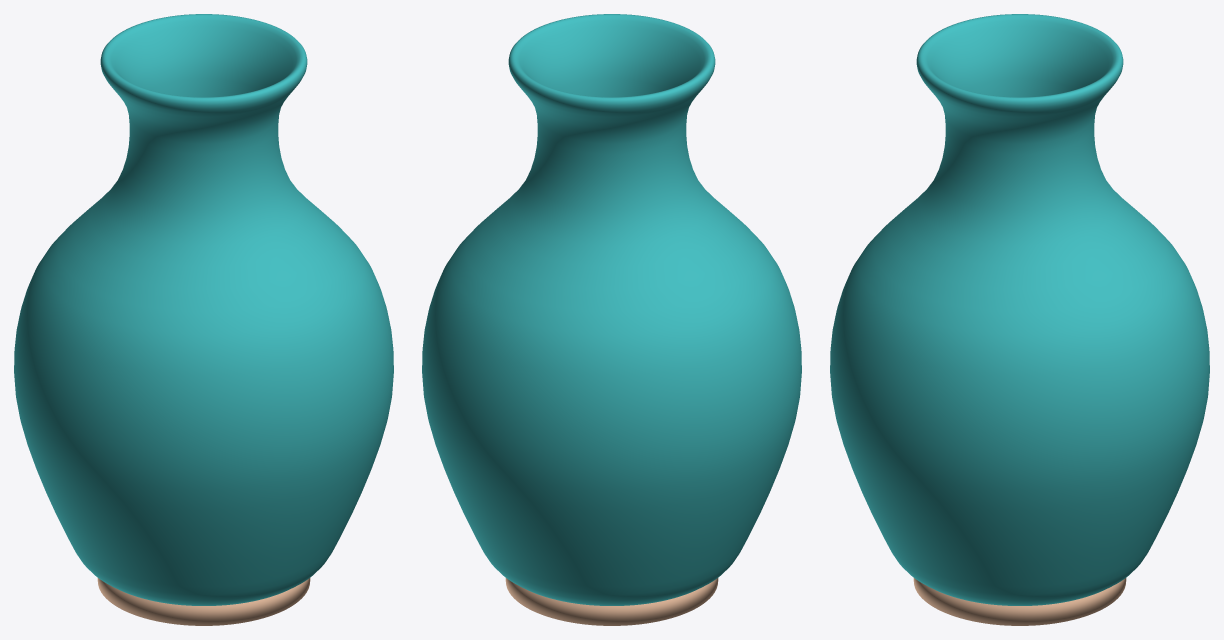
File: vase.glb
3 views of the same model, side by side, from view 1: azimuth 30°, elevation 25°; view 2: azimuth 150°, elevation 25°; view 3: azimuth 270°, elevation 25° (orthographic).
Visible parts, largest first — view 1: Vase, Foot; view 2: Vase, Foot; view 3: Vase, Foot.
Part boxes in pixels (x1=…): Vase: x1=14, y1=14, x2=393, y2=605; Foot: x1=97, y1=578, x2=310, y2=625; Vase: x1=422, y1=14, x2=801, y2=605; Foot: x1=505, y1=578, x2=718, y2=625; Vase: x1=830, y1=14, x2=1209, y2=605; Foot: x1=913, y1=578, x2=1126, y2=625.
Bounding box in the file's own units: 1.11 × 1.69 × 1.11.
